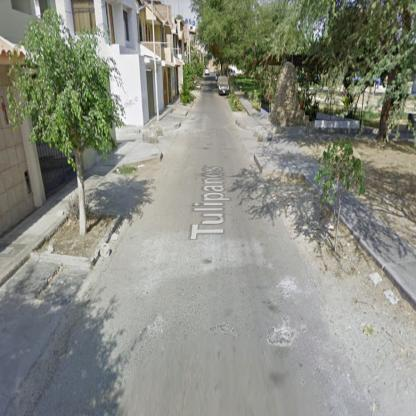Pista: (67, 72, 407, 333)
Vehiculo: (218, 77, 230, 96)
